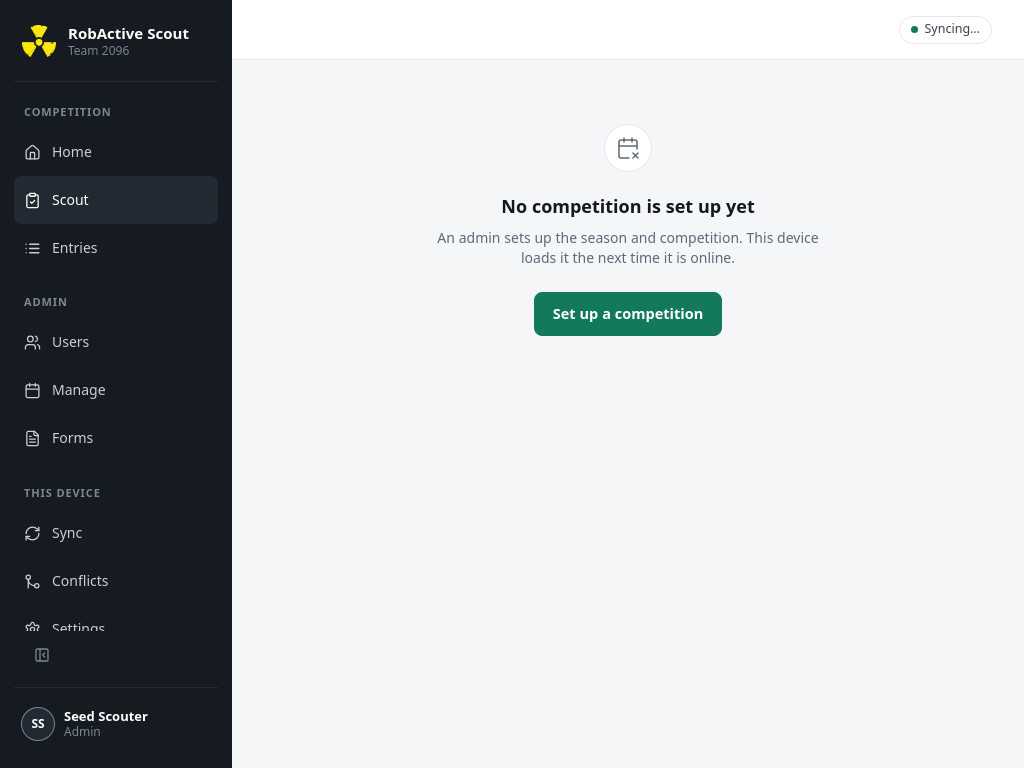
it: AppShell with no active event (task 1.17b) › offers "Set up a competition" and a "Manage" nav link to an admin
This screenshot has width=1024, height=768.
Expected: the heading "No competition is set up yet" is shown, [501,192,755,220]
Click the link "Set up a competition" at {"x": 628, "y": 314}, box [534,292,722,336]
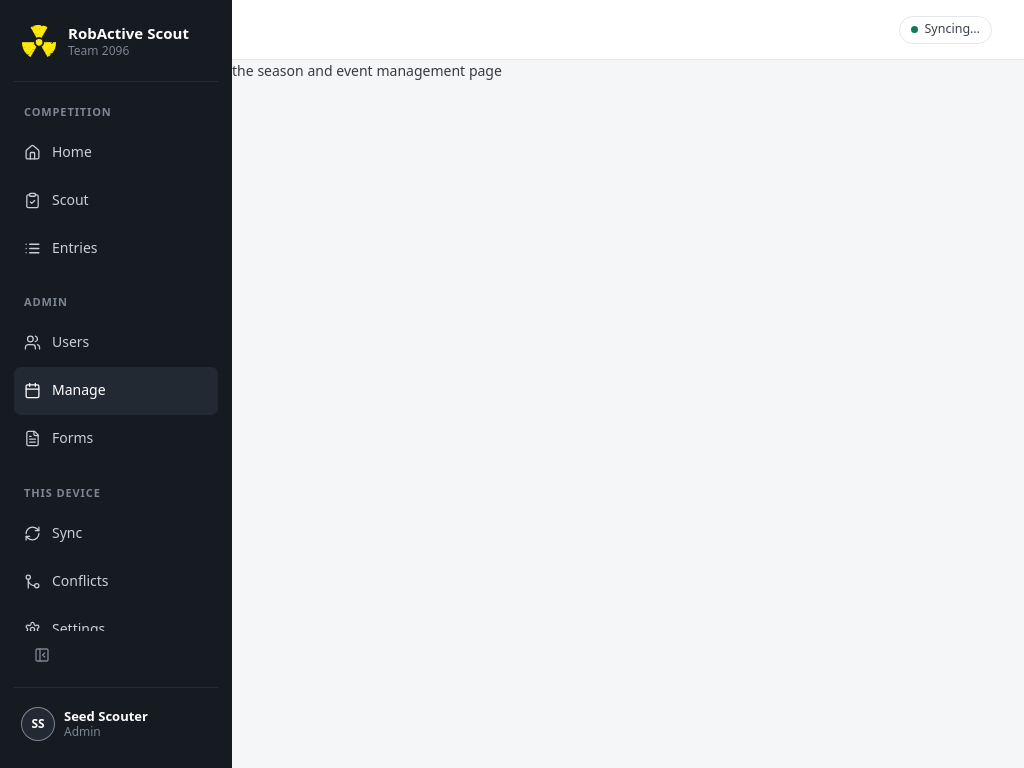
Now the text "the season and event management page" is shown, box [232,61,502,80]
